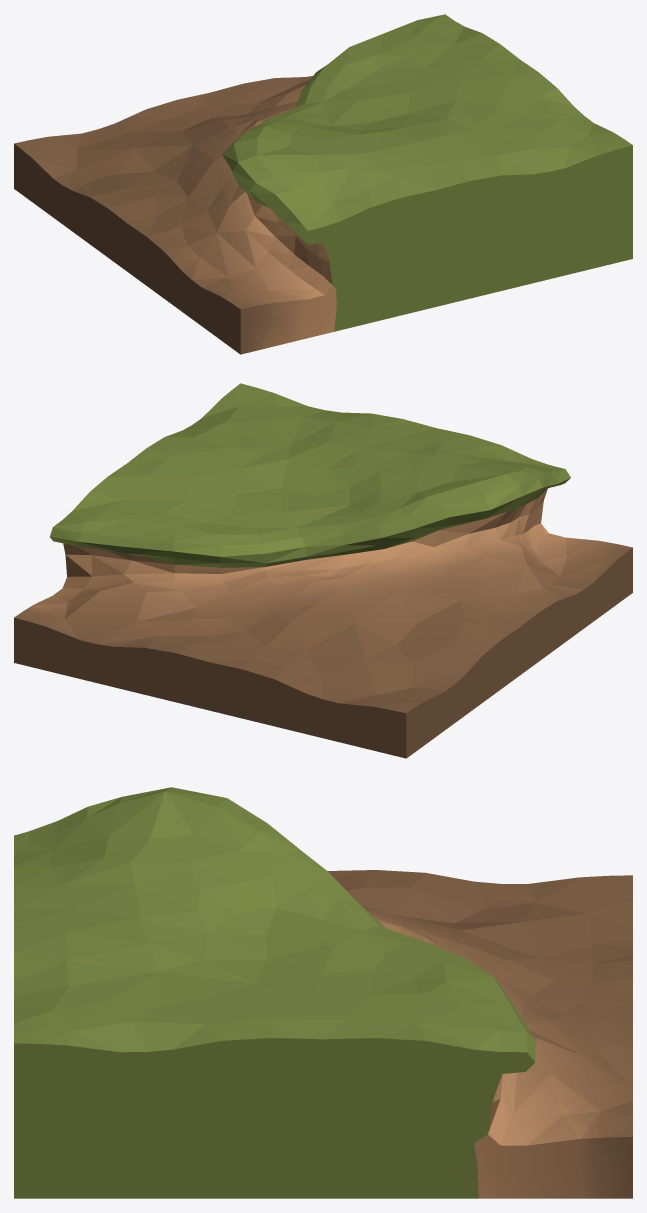
Rendered from Terrian_Cliff_Flat_Bend-01.fbx.
3 renders of one model, top to bottom at view 1: azimuth 30°, elevation 25°; view 2: azimuth 150°, elevation 25°; view 3: azimuth 270°, elevation 25°, orthographic. The views are drawn at different scales.
Visible parts, largest first — view 1: Terrian_Cliff_Flat_Bend-01; view 2: Terrian_Cliff_Flat_Bend-01; view 3: Terrian_Cliff_Flat_Bend-01.
Boxes of the visible parts, x1=… form: Terrian_Cliff_Flat_Bend-01: x1=14, y1=14, x2=632, y2=354; Terrian_Cliff_Flat_Bend-01: x1=14, y1=383, x2=632, y2=758; Terrian_Cliff_Flat_Bend-01: x1=14, y1=787, x2=632, y2=1198.
Bounding box in the file's own units: 3600 × 1241 × 3600.
1 material, 1 textured.
